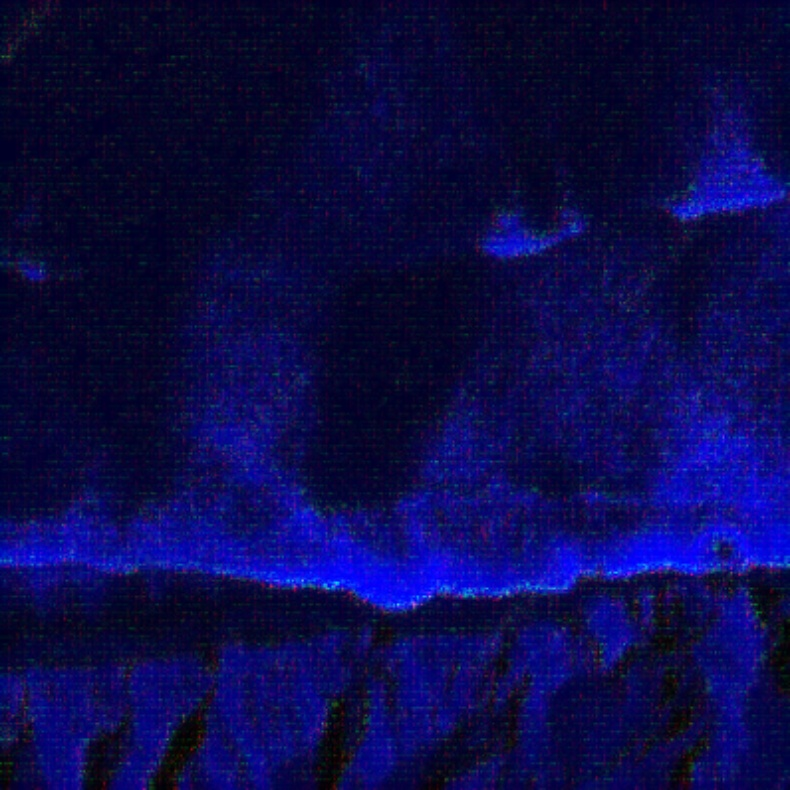rip_current: (264, 218, 511, 534)
